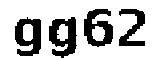2: (118, 5, 150, 49)
6: (84, 6, 114, 49)
g: (11, 14, 44, 59), (46, 15, 77, 60)
